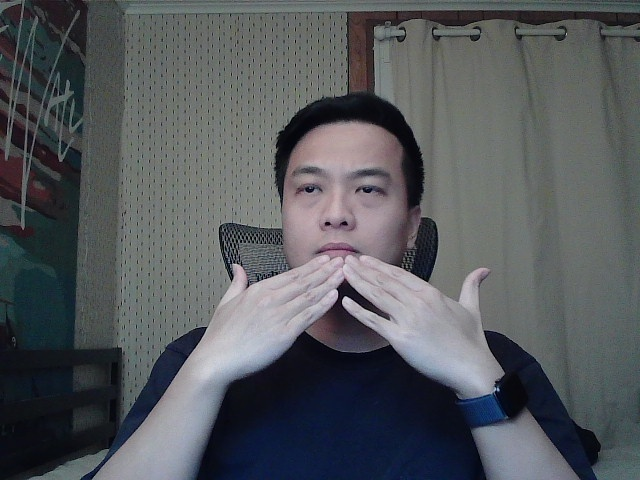Thank You: (188, 242, 521, 397)
